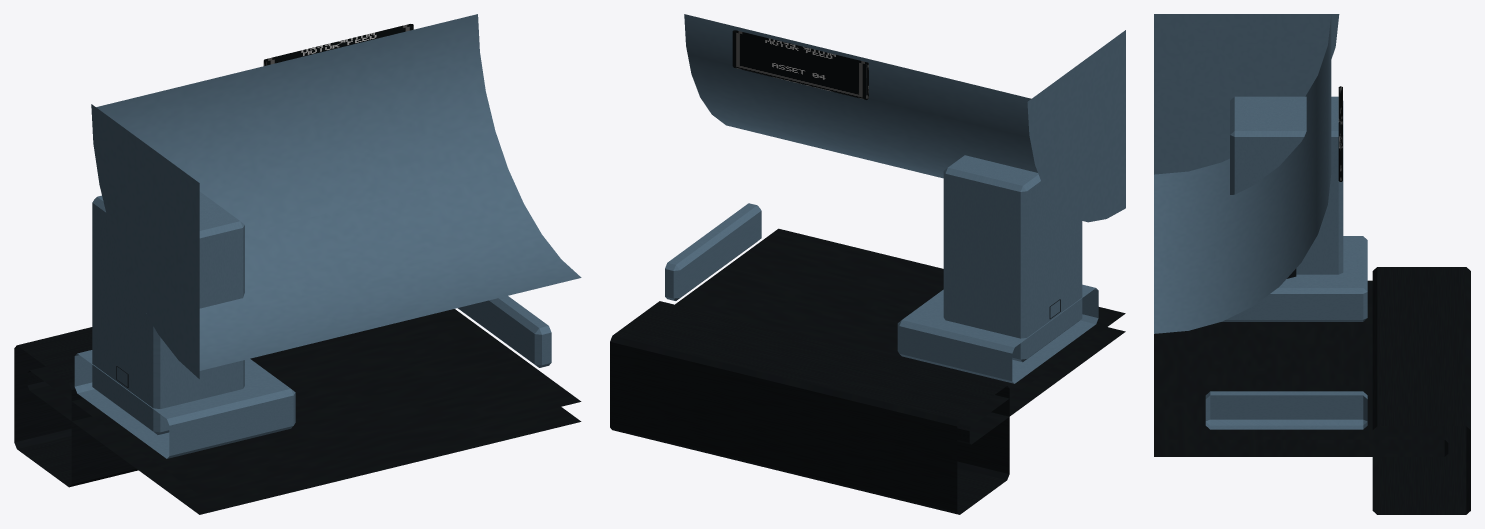
Rendered from cell_1.obj.
3 views of the same model, side by side, from view 1: azimuth 30°, elevation 25°; view 2: azimuth 150°, elevation 25°; view 3: azimuth 270°, elevation 25° (orthographic). The views are drawn at different scales.
Visible parts, largest first — view 1: cell_1; view 2: cell_1; view 3: cell_1.
Boxes of the visible parts, box(x1,y1,x2,y2) form: cell_1: box(14, 14, 581, 514); cell_1: box(610, 14, 1125, 514); cell_1: box(1154, 14, 1470, 514).
Bounding box in the file's own units: 1 × 1 × 0.84.
